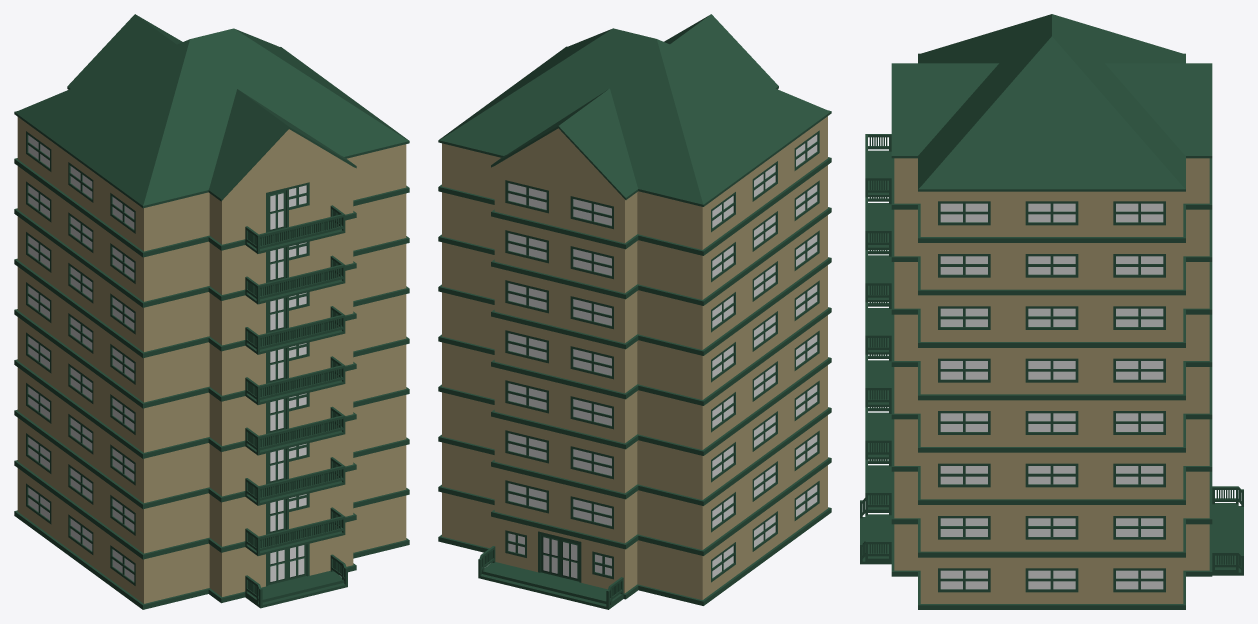
File: business building 30.fbx
3 renders of one model, left to right at view 1: azimuth 30°, elevation 25°; view 2: azimuth 150°, elevation 25°; view 3: azimuth 270°, elevation 25°, orthographic. The views are drawn at different scales.
Parts seen in each view (by area): view 1: building_001; view 2: building_001; view 3: building_001.
Boxes of the visible parts, x1,y1,x2,y2 form: building_001: [14, 14, 409, 609]; building_001: [438, 14, 831, 609]; building_001: [860, 14, 1243, 609].
Size of the model in its own units: 1220 by 2170 by 1460.
